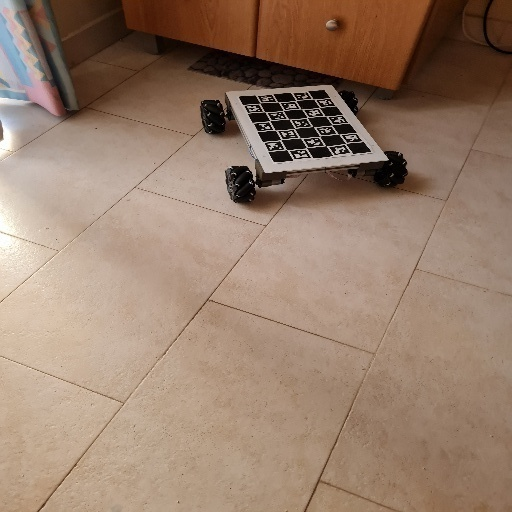Omniwheel: (200, 84, 410, 205)
